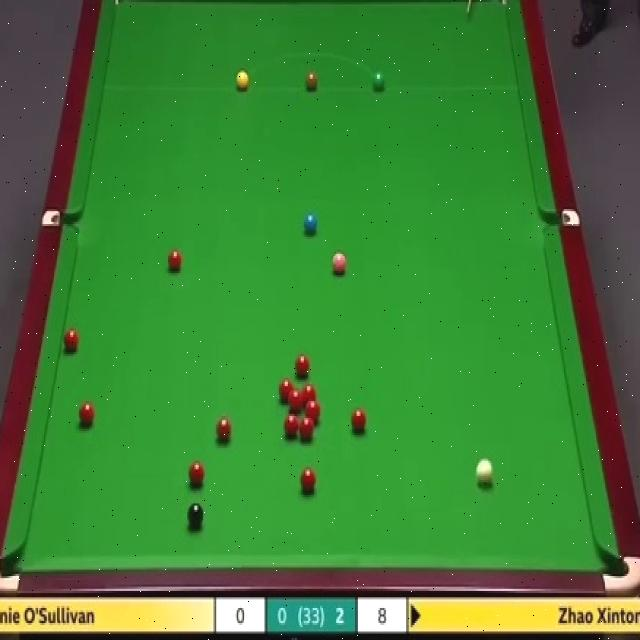black-ball: (187, 502, 206, 526)
blue-ball: (303, 211, 318, 238)
brown-ball: (304, 70, 318, 90)
green-ball: (372, 71, 386, 90)
pink-ball: (332, 254, 348, 277)
red-ball: (214, 414, 233, 444), (62, 328, 82, 356), (277, 376, 296, 403), (76, 399, 94, 426), (300, 467, 318, 494), (350, 408, 367, 434), (189, 460, 206, 486), (293, 354, 312, 377), (304, 410, 321, 434), (284, 413, 300, 438), (302, 385, 318, 409), (288, 390, 304, 413), (167, 252, 183, 270), (297, 401, 312, 419)
white-ball: (476, 456, 494, 484)
yellow-ball: (235, 70, 250, 90)
